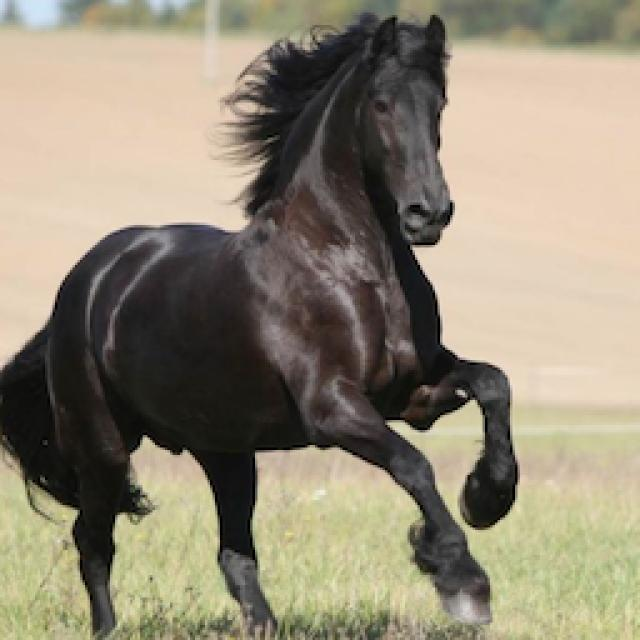Horse: (0, 8, 528, 638)
